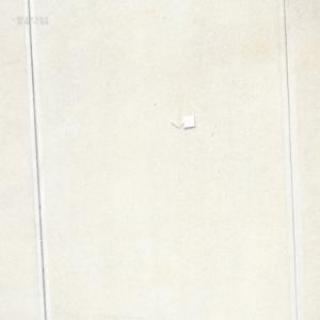LuggageTagtrack_idkeyframe: (170, 113, 194, 130)
